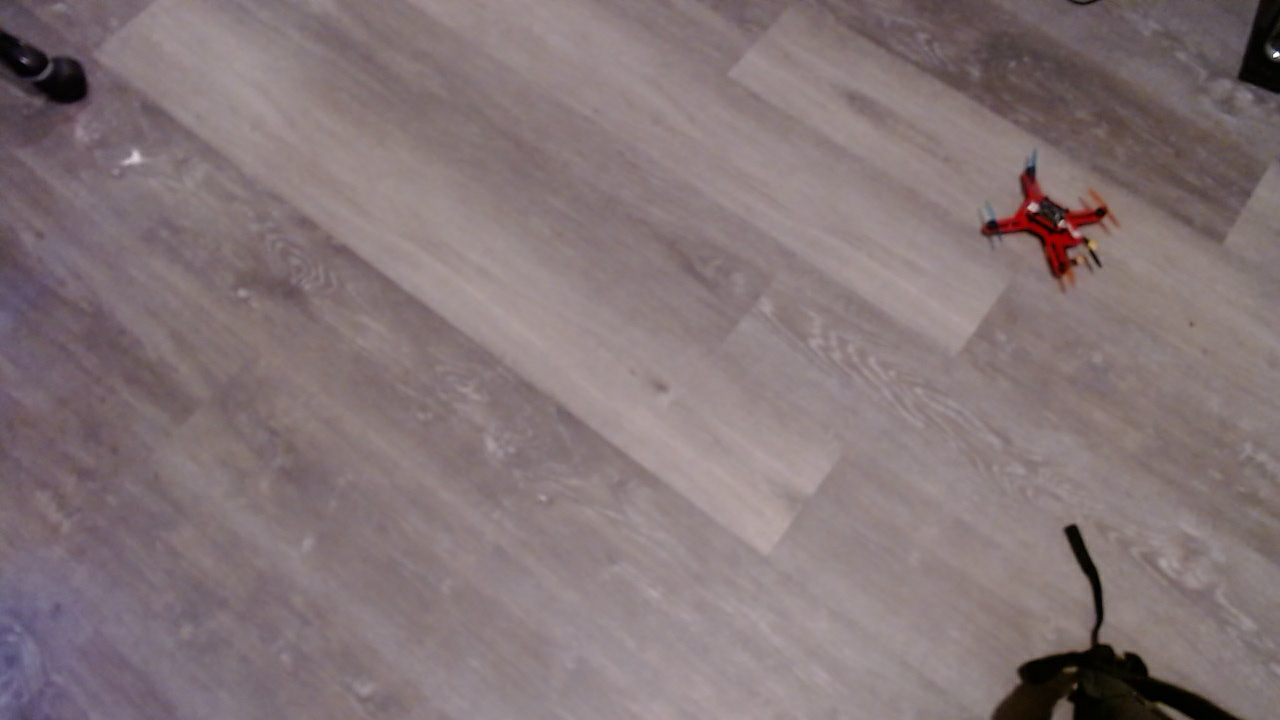crazyflie: (983, 159, 1129, 284)
